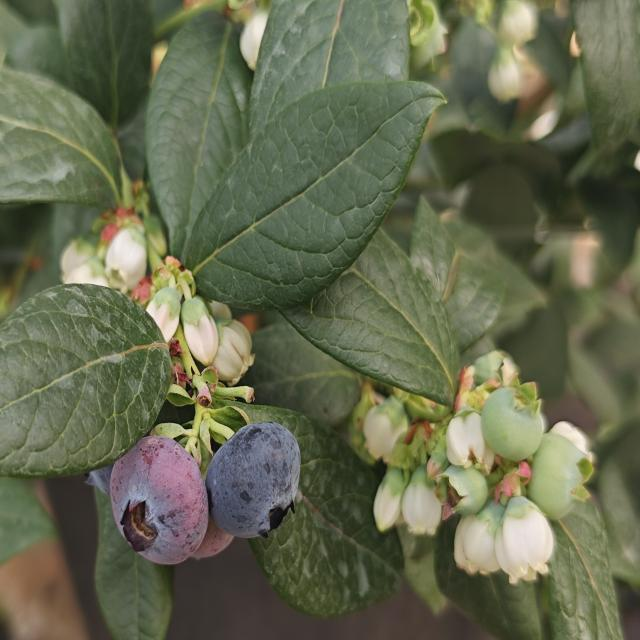ripe: (200, 413, 306, 543), (64, 441, 120, 499)
